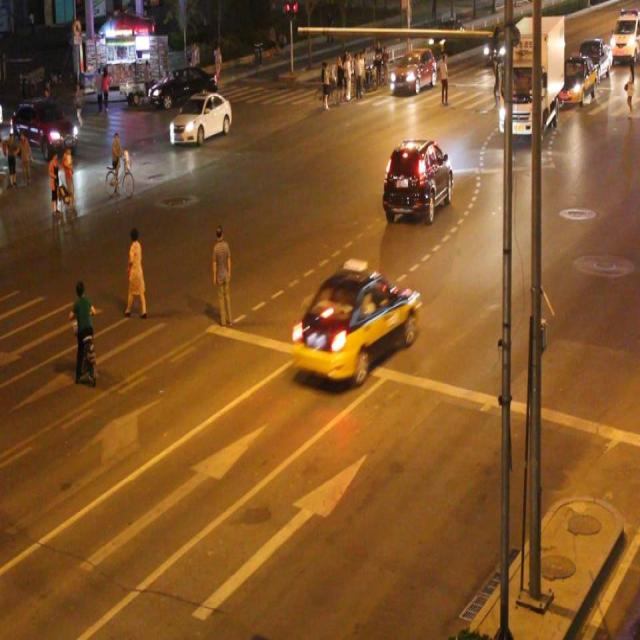bus: (495, 16, 565, 142)
car: (293, 264, 420, 386), (383, 135, 453, 221), (11, 100, 79, 160), (168, 92, 232, 144), (148, 65, 216, 103), (388, 48, 437, 97)
